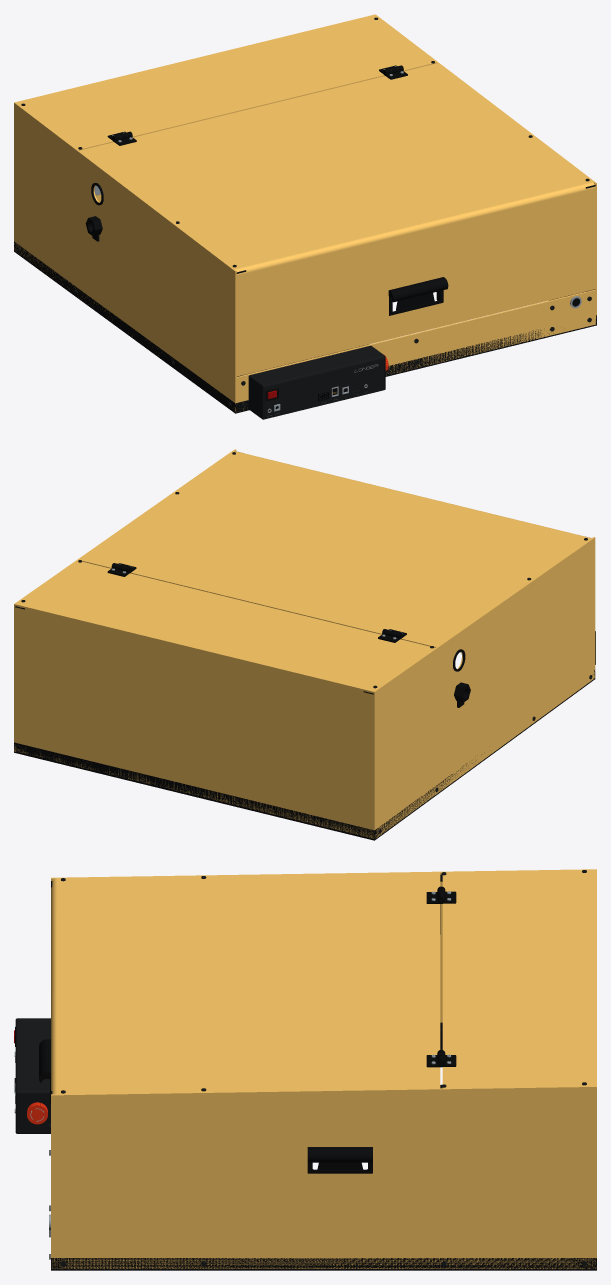
3 views of the same model, one above another, from view 1: azimuth 30°, elevation 25°; view 2: azimuth 150°, elevation 25°; view 3: azimuth 270°, elevation 25° (orthographic). The views are drawn at different scales.
Visible parts, largest first — view 1: lid_bent_amber_front_and_roof, body_left_amber_panel, body_fixed_rear_amber_roof, body_front_fixed_amber_apron, controller_front_fascia, controller_hollow_case, body_lower_left_rail, body_lower_front_rail, lid_pull_curved_upper_grip, body_right_amber_panel; view 2: lid_bent_amber_front_and_roof, UNKNOWN_REAR_plain_amber_continuation, body_left_amber_panel, body_fixed_rear_amber_roof, body_lower_rear_rail, body_lower_left_rail, body_right_amber_panel; view 3: body_right_amber_panel, lid_bent_amber_front_and_roof, body_fixed_rear_amber_roof, body_lower_right_rail, controller_hollow_case, body_left_amber_panel, right_side_pull_curved_upper_grip.
Boxes of the visible parts, x1,y1,x2,y2 form: lid_bent_amber_front_and_roof: [79, 63, 595, 376]; body_left_amber_panel: [14, 102, 236, 411]; body_fixed_rear_amber_roof: [16, 14, 436, 150]; body_front_fixed_amber_apron: [237, 289, 595, 409]; controller_front_fascia: [264, 357, 384, 418]; controller_hollow_case: [244, 344, 385, 419]; body_lower_left_rail: [20, 246, 228, 408]; body_lower_front_rail: [229, 315, 596, 413]; lid_pull_curved_upper_grip: [388, 277, 448, 302]; body_right_amber_panel: [374, 14, 596, 324]; lid_bent_amber_front_and_roof: [79, 451, 591, 647]; UNKNOWN_REAR_plain_amber_continuation: [15, 607, 372, 838]; body_left_amber_panel: [373, 537, 595, 838]; body_fixed_rear_amber_roof: [15, 561, 434, 693]; body_lower_rear_rail: [14, 742, 380, 840]; body_lower_left_rail: [381, 683, 588, 835]; body_right_amber_panel: [14, 449, 236, 751]; body_right_amber_panel: [51, 1086, 596, 1269]; lid_bent_amber_front_and_roof: [51, 872, 440, 1094]; body_fixed_rear_amber_roof: [442, 870, 596, 1088]; body_lower_right_rail: [66, 1258, 581, 1270]; controller_hollow_case: [15, 1018, 50, 1133]; body_left_amber_panel: [51, 869, 596, 1022]; right_side_pull_curved_upper_grip: [307, 1147, 372, 1162].
Bounding box in the file's own units: 0.689 × 0.2666 × 0.7472.
18 materials, 2 textured.
